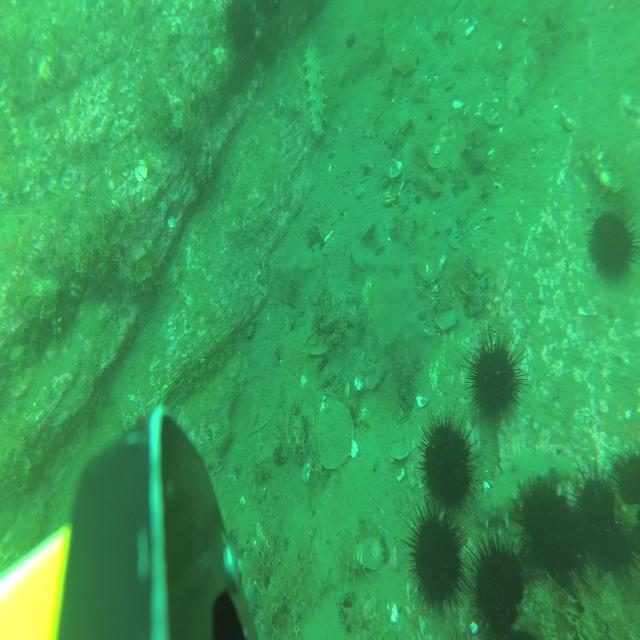echinus: (401, 494, 471, 622), (514, 472, 581, 584), (419, 405, 481, 517), (463, 321, 526, 431), (468, 526, 527, 640), (570, 468, 626, 576), (583, 205, 640, 287), (611, 444, 640, 562), (222, 0, 258, 60), (256, 0, 282, 20)
holothurian: (478, 449, 581, 526), (300, 39, 328, 140)
scallop: (316, 400, 354, 471), (356, 536, 386, 572), (392, 44, 418, 76), (387, 433, 412, 462)
